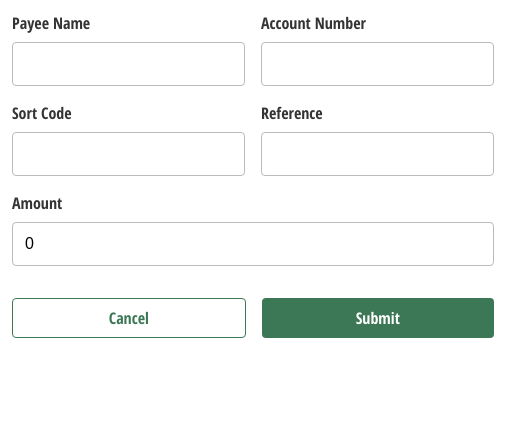
Test: PaymentForm › validates the form
Step 1. Click the button "Submit" → (378, 318), box [262, 298, 494, 338]
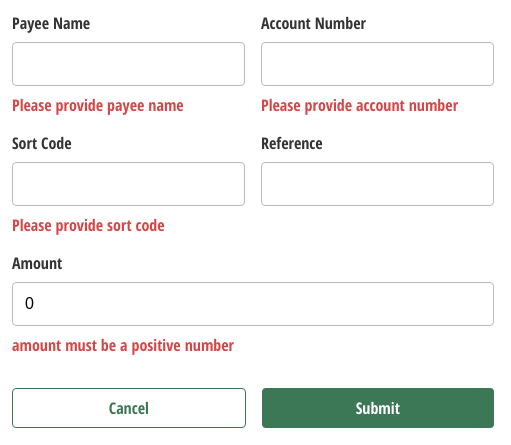
Expected: the text "Please provide payee name" is shown, [12, 94, 184, 116]
Expected: the text "Please provide account number" is shown, [261, 94, 458, 116]
Expected: the text "Please provide sort code" is shown, [12, 214, 165, 236]
